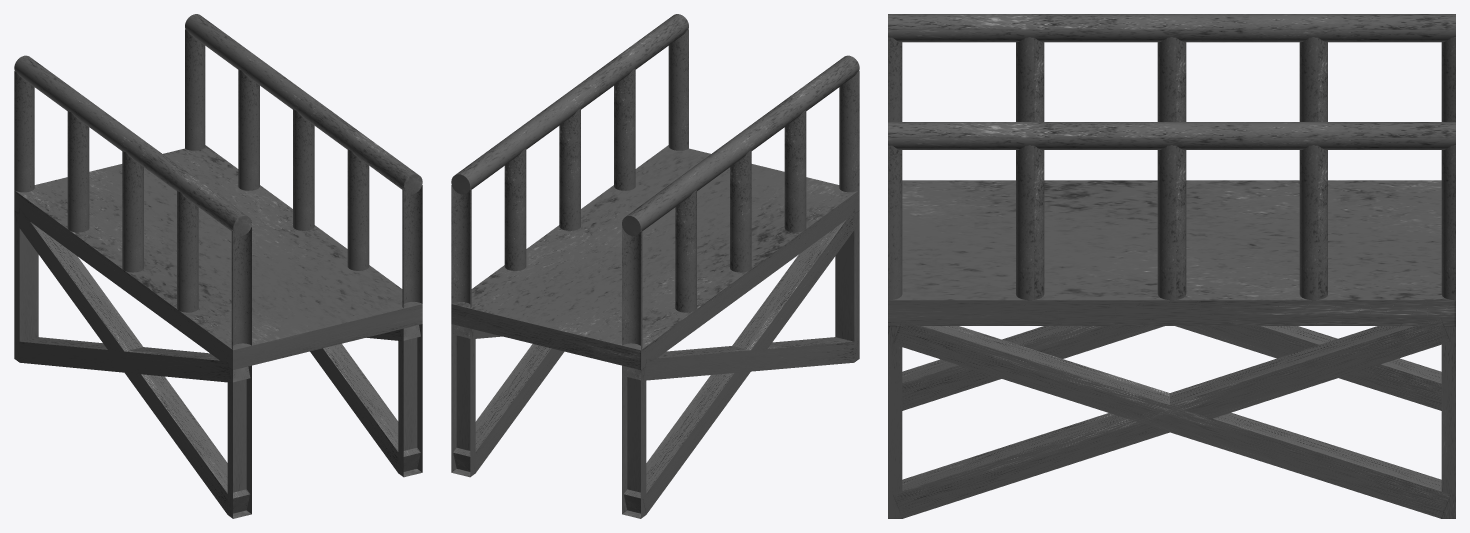
File: linetex.fbx
3 views of the same model, side by side, from view 1: azimuth 30°, elevation 25°; view 2: azimuth 150°, elevation 25°; view 3: azimuth 270°, elevation 25° (orthographic). The views are drawn at different scales.
Visible parts, largest first — view 1: pCylinder28; view 2: pCylinder28; view 3: pCylinder28.
Boxes of the visible parts, x1,y1,x2,y2 form: pCylinder28: [14, 14, 422, 518]; pCylinder28: [451, 14, 859, 518]; pCylinder28: [888, 14, 1455, 518].
Size of the model in its own units: 530 by 803 by 1060.
1 material, 1 textured.
